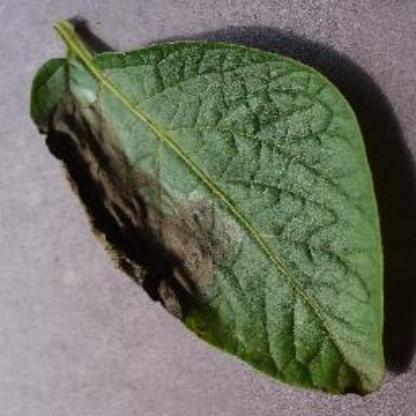Late-Blight: (20, 14, 402, 410)
